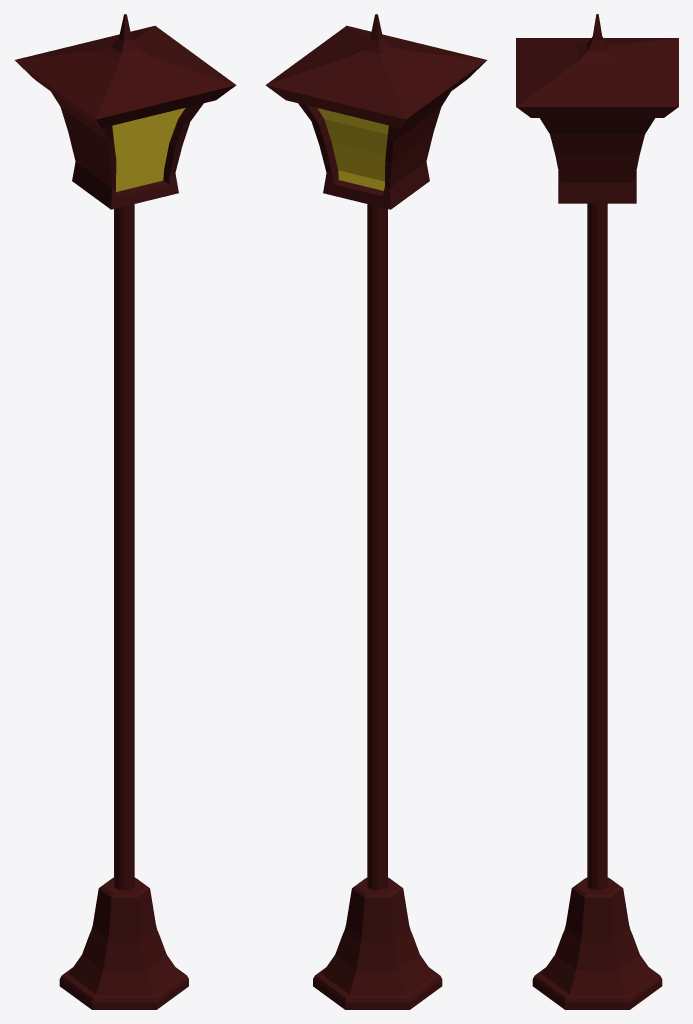
Rendered from Lamp.glb.
The picture shows the model from 3 angles, left to right: view 1: azimuth 30°, elevation 25°; view 2: azimuth 150°, elevation 25°; view 3: azimuth 270°, elevation 25°; orthographic projection.
Parts seen in each view (by area): view 1: Cylinder; view 2: Cylinder; view 3: Cylinder.
Part boxes in pixels (x1,y1,x2,y2): Cylinder: (14,14,236,1009); Cylinder: (265,14,487,1009); Cylinder: (516,14,678,1009).
Size of the model in its own units: 1.47 by 9.69 by 1.47.
